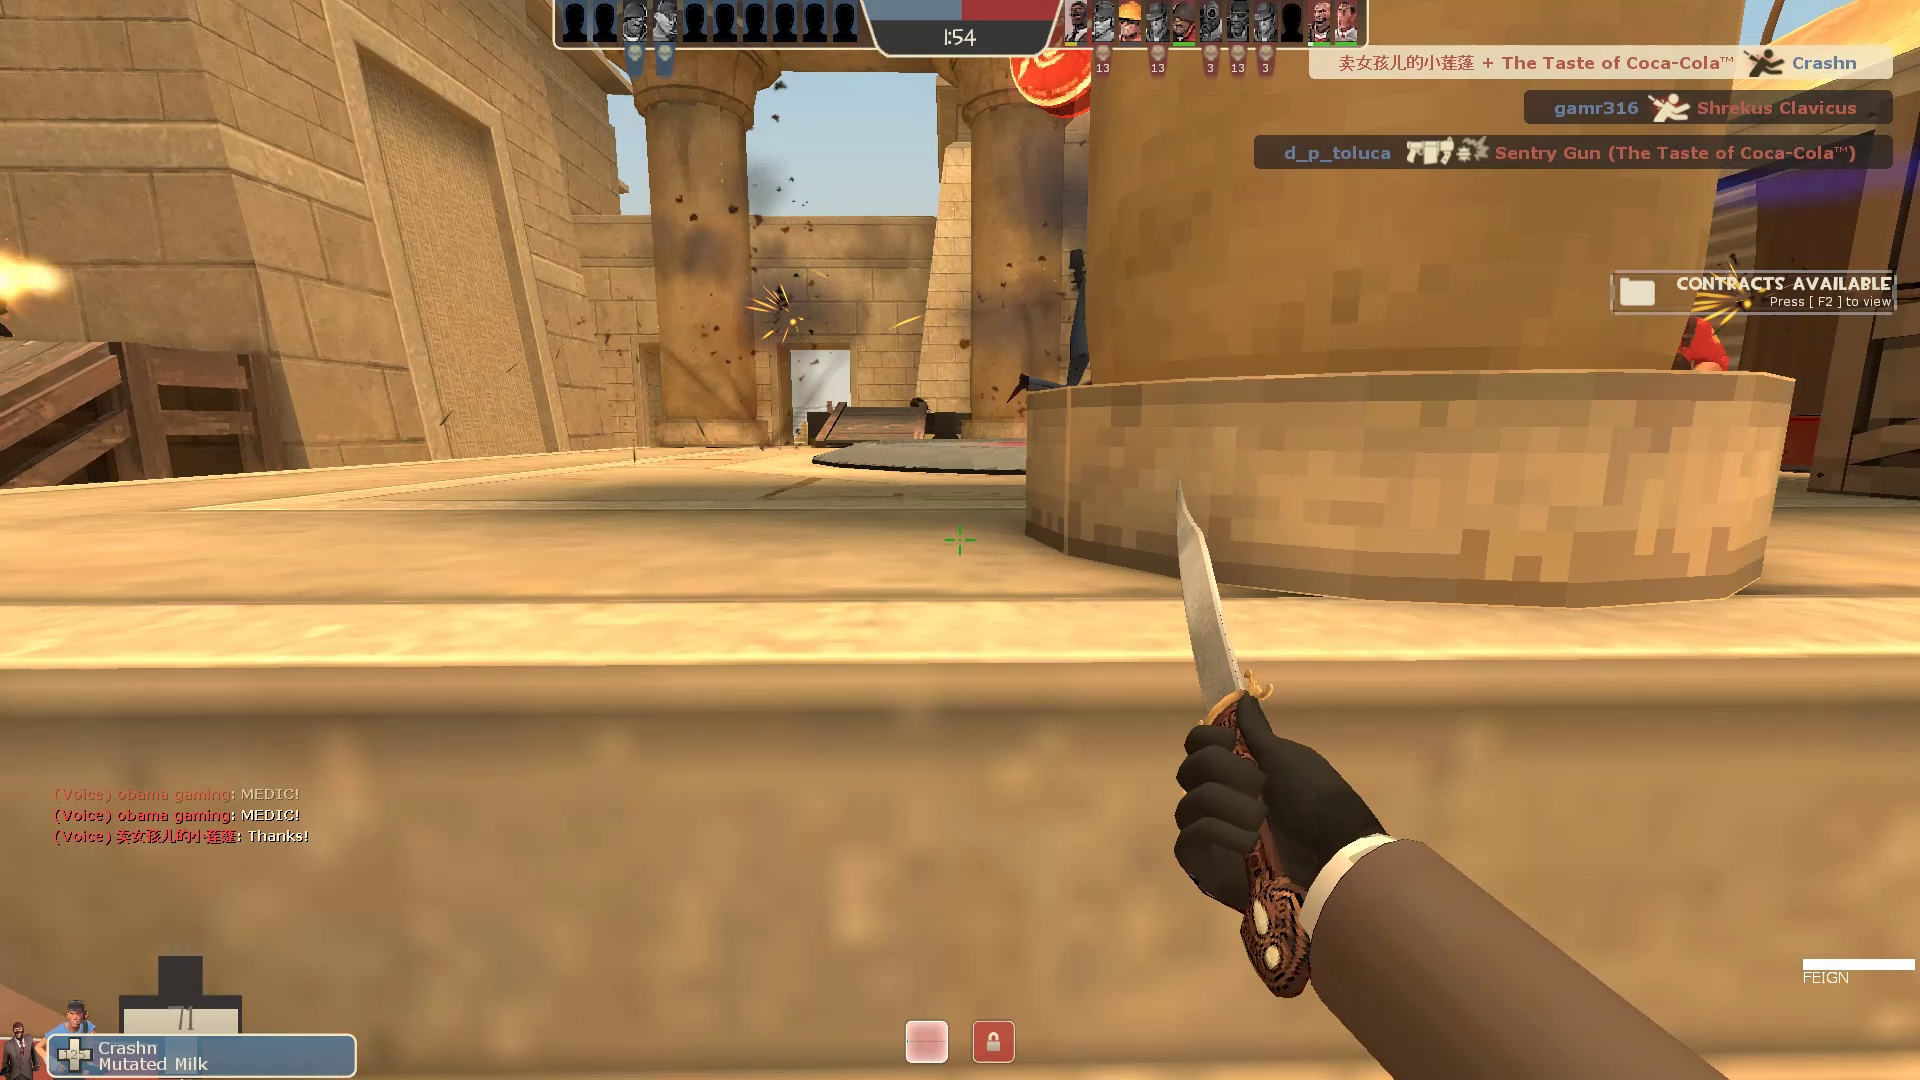blu_spy: (1001, 208, 1226, 514)
red_dispenser_building: (1756, 401, 1855, 488)
red_engineer: (1607, 286, 1753, 520)
